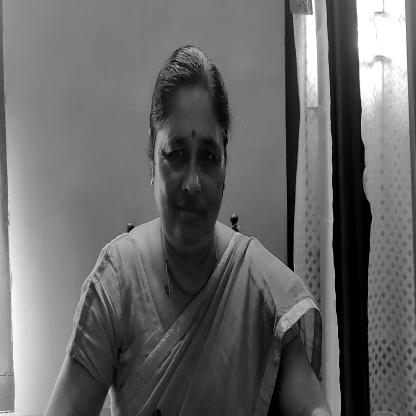Normal: (142, 58, 233, 254)
